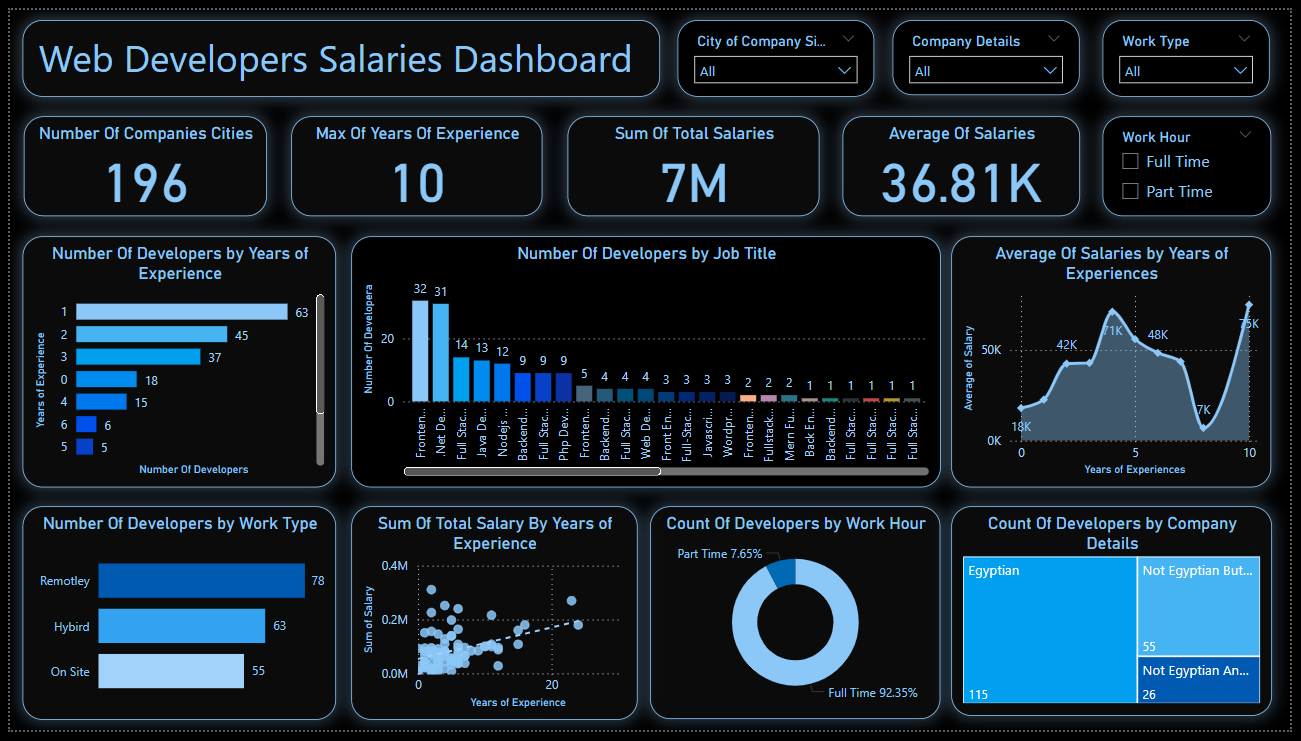

The dashboard page shown, as its layout file describes it:
{"tool":"powerbi","page":{"name":"Page 1","canvas":[1280,720],"ordinal":0},"visuals":[{"type":"donutChart","title":"Count Of Developers by Work Hour","fields":{"Category":["Web-Developers-Salaries-Egypt-2024.Work Hour"],"Y":["CountNonNull(Web-Developers-Salaries-Egypt-2024.Work Hour)"]},"box":[639.5,496.5,290.7,212.8],"z":0},{"type":"columnChart","title":"Number Of Developers by Job Title","fields":{"Category":["Web-Developers-Salaries-Egypt-2024.Title"],"Y":["CountNonNull(Web-Developers-Salaries-Egypt-2024.Title)"],"Series":["Web-Developers-Salaries-Egypt-2024.Title"]},"box":[340.7,226.7,589.5,251.2],"z":1000},{"type":"scatterChart","title":"Sum Of Total Salary By Years of Experience","fields":{"X":["Sum(Web-Developers-Salaries-Egypt-2024.Years of Experiences)"],"Y":["Sum(Web-Developers-Salaries-Egypt-2024.Salary)"],"Category":["Web-Developers-Salaries-Egypt-2024.Salary"]},"box":[340.7,496.5,286,214],"z":2000},{"type":"slicer","fields":{"Values":["Web-Developers-Salaries-Egypt-2024.City of Company site"]},"box":[667.4,10.5,196.5,76.7],"z":3000},{"type":"card","title":"Number Of Companies Cities","fields":{"Values":["CountNonNull(Web-Developers-Salaries-Egypt-2024.City of Company Site)"]},"box":[14,105.8,243,100],"z":4000},{"type":"textbox","box":[12.8,10.5,637.2,76.7],"z":5000},{"type":"barChart","title":"Number Of Developers by Years of Experience","fields":{"Category":["Web-Developers-Salaries-Egypt-2024.Years of Experiences"],"Y":["CountNonNull(Web-Developers-Salaries-Egypt-2024.Years of Experiences)"],"Series":["Web-Developers-Salaries-Egypt-2024.Years of Experiences"]},"box":[12.8,226.7,314,251.2],"z":6000},{"type":"card","title":"Max Of Years Of Experience","fields":{"Values":["Max(Web-Developers-Salaries-Egypt-2024.Years of Experiences)"]},"box":[281.4,105.8,251.2,100],"z":7000},{"type":"card","title":"Sum Of Total Salaries","fields":{"Values":["Sum(Web-Developers-Salaries-Egypt-2024.Salary)"]},"box":[557,105.8,252.3,100],"z":8000},{"type":"card","title":"Average Of Salaries","fields":{"Values":["Avg(Web-Developers-Salaries-Egypt-2024.Salary)"]},"box":[832.6,105.8,237.2,100],"z":9000},{"type":"slicer","fields":{"Values":["Web-Developers-Salaries-Egypt-2024.Company Details"]},"box":[882.6,10.5,187.2,75.6],"z":10000},{"type":"slicer","fields":{"Values":["Web-Developers-Salaries-Egypt-2024.Work Hour"]},"box":[1093,105.8,168.6,100],"z":11000},{"type":"slicer","fields":{"Values":["Web-Developers-Salaries-Egypt-2024.Work Type"]},"box":[1093,10.5,167.4,76.7],"z":12000},{"type":"barChart","title":"Number Of Developers by Work Type","fields":{"Category":["Web-Developers-Salaries-Egypt-2024.Work Type"],"Y":["CountNonNull(Web-Developers-Salaries-Egypt-2024.Work Type)"]},"box":[12.8,496.5,314,214],"z":13000},{"type":"treemap","title":"Count Of Developers by Company Details","fields":{"Group":["Web-Developers-Salaries-Egypt-2024.Company Details"],"Values":["CountNonNull(Web-Developers-Salaries-Egypt-2024.Company Details)"]},"box":[941.9,496.5,320.9,209.3],"z":14000},{"type":"areaChart","title":"Average Of Salaries by Years of Experiences","fields":{"Category":["Web-Developers-Salaries-Egypt-2024.Years of Experiences"],"Y":["Avg(Web-Developers-Salaries-Egypt-2024.Salary)"]},"box":[941.9,226.7,319.8,251.2],"z":15000}]}

Visuals, with their boxes in screenshot pixels (x1, y1, x2, y2), scaled from the page's 1280x720 canvas onto the 1301x741 screenshot:
"Count Of Developers by Work Hour" donutChart: bbox(650, 511, 945, 730)
"Number Of Developers by Job Title" columnChart: bbox(346, 233, 945, 492)
"Sum Of Total Salary By Years of Experience" scatterChart: bbox(346, 511, 637, 731)
slicer - Web-Developers-Salaries-Egypt-2024.City of Company site: bbox(678, 11, 878, 90)
"Number Of Companies Cities" card: bbox(14, 109, 261, 212)
textbox: bbox(13, 11, 661, 90)
"Number Of Developers by Years of Experience" barChart: bbox(13, 233, 332, 492)
"Max Of Years Of Experience" card: bbox(286, 109, 541, 212)
"Sum Of Total Salaries" card: bbox(566, 109, 823, 212)
"Average Of Salaries" card: bbox(846, 109, 1087, 212)
slicer - Web-Developers-Salaries-Egypt-2024.Company Details: bbox(897, 11, 1087, 89)
slicer - Web-Developers-Salaries-Egypt-2024.Work Hour: bbox(1111, 109, 1282, 212)
slicer - Web-Developers-Salaries-Egypt-2024.Work Type: bbox(1111, 11, 1281, 90)
"Number Of Developers by Work Type" barChart: bbox(13, 511, 332, 731)
"Count Of Developers by Company Details" treemap: bbox(957, 511, 1284, 726)
"Average Of Salaries by Years of Experiences" areaChart: bbox(957, 233, 1282, 492)
